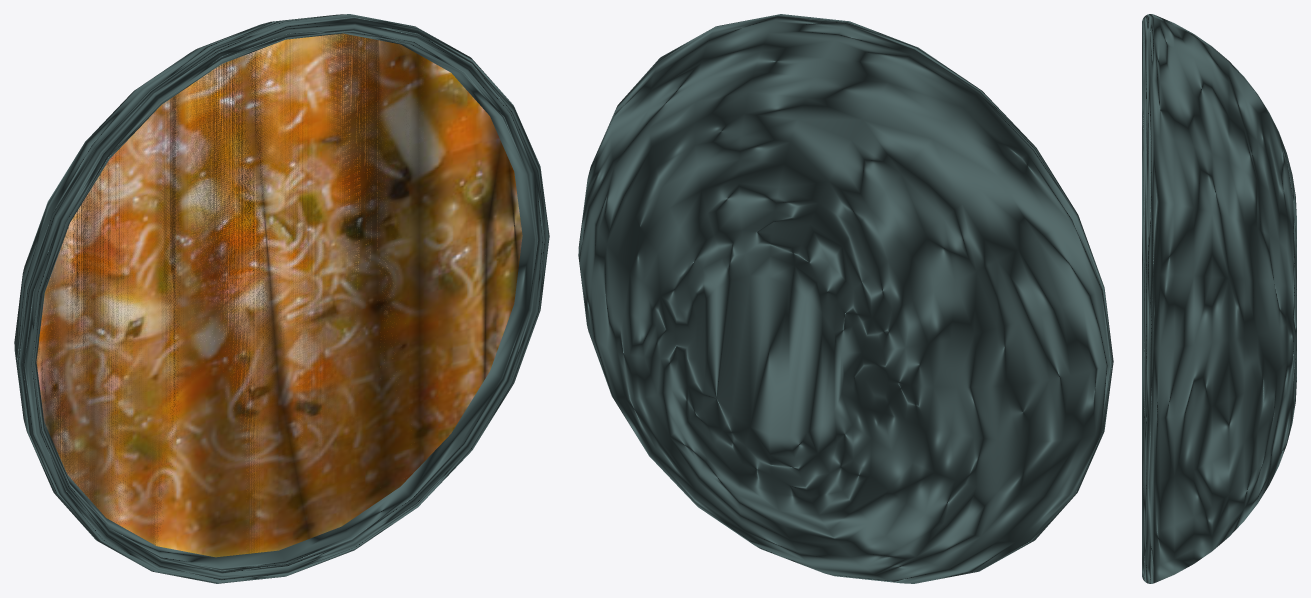
File: model_align.obj
The picture shows the model from 3 angles, left to right: view 1: azimuth 30°, elevation 25°; view 2: azimuth 150°, elevation 25°; view 3: azimuth 270°, elevation 25°; orthographic projection. The views are drawn at different scales.
Size of the model in its own units: 0.1415 by 0.1415 by 0.0383.
Materials: 3 (3 with a texture image).
